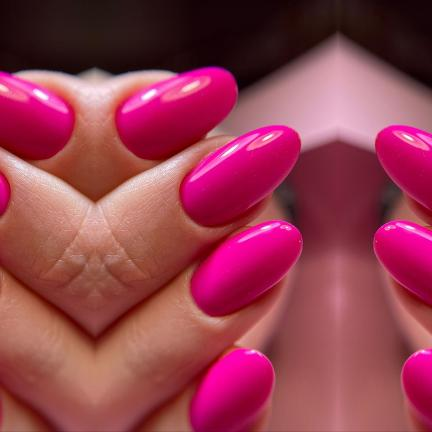Nail: (179, 124, 301, 228), (114, 67, 237, 160), (188, 220, 301, 316), (188, 348, 274, 432), (0, 71, 74, 160), (374, 124, 432, 216), (373, 220, 432, 307), (401, 348, 432, 431), (0, 173, 9, 217)
